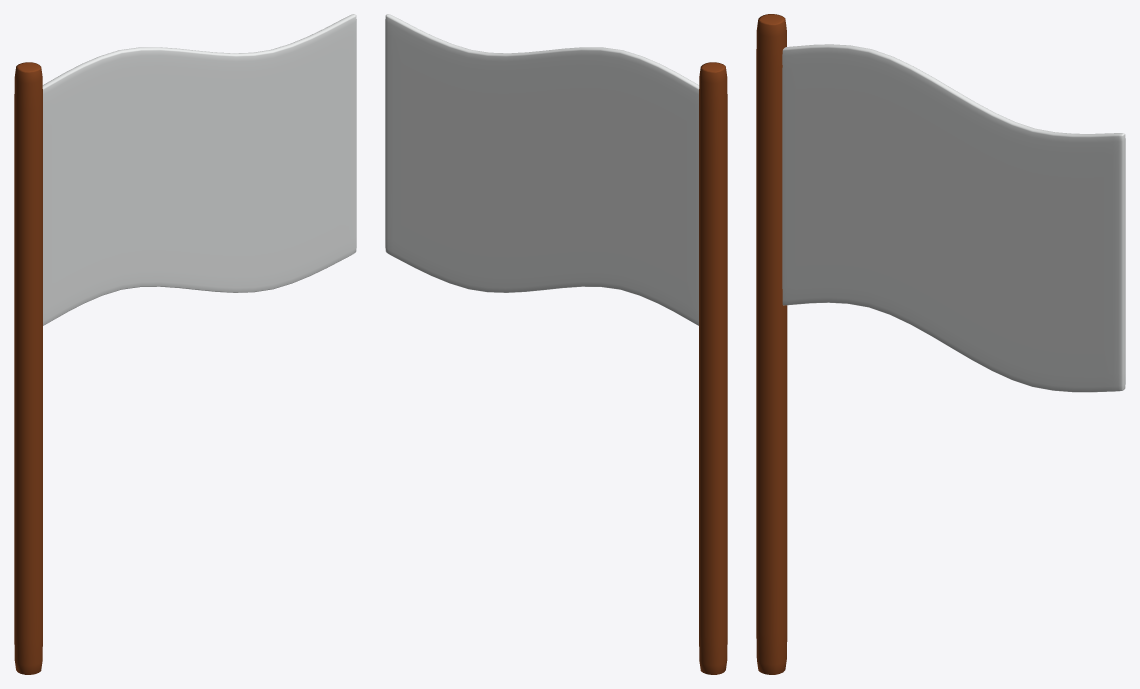
File: Bandera.fbx
The picture shows the model from 3 angles, left to right: view 1: azimuth 30°, elevation 25°; view 2: azimuth 150°, elevation 25°; view 3: azimuth 330°, elevation 25°; orthographic projection. The views are drawn at different scales.
Visible parts, largest first — view 1: Bandera, Madera; view 2: Bandera, Madera; view 3: Bandera, Madera.
Boxes of the visible parts, x1,y1,x2,y2 form: Bandera: (42, 14, 356, 325); Madera: (14, 62, 42, 674); Bandera: (385, 14, 699, 325); Madera: (699, 62, 727, 674); Bandera: (782, 44, 1125, 392); Madera: (756, 14, 787, 674).
Bounding box in the file's own units: 4.17 × 7.09 × 0.3039.
2 materials, 2 textured.
